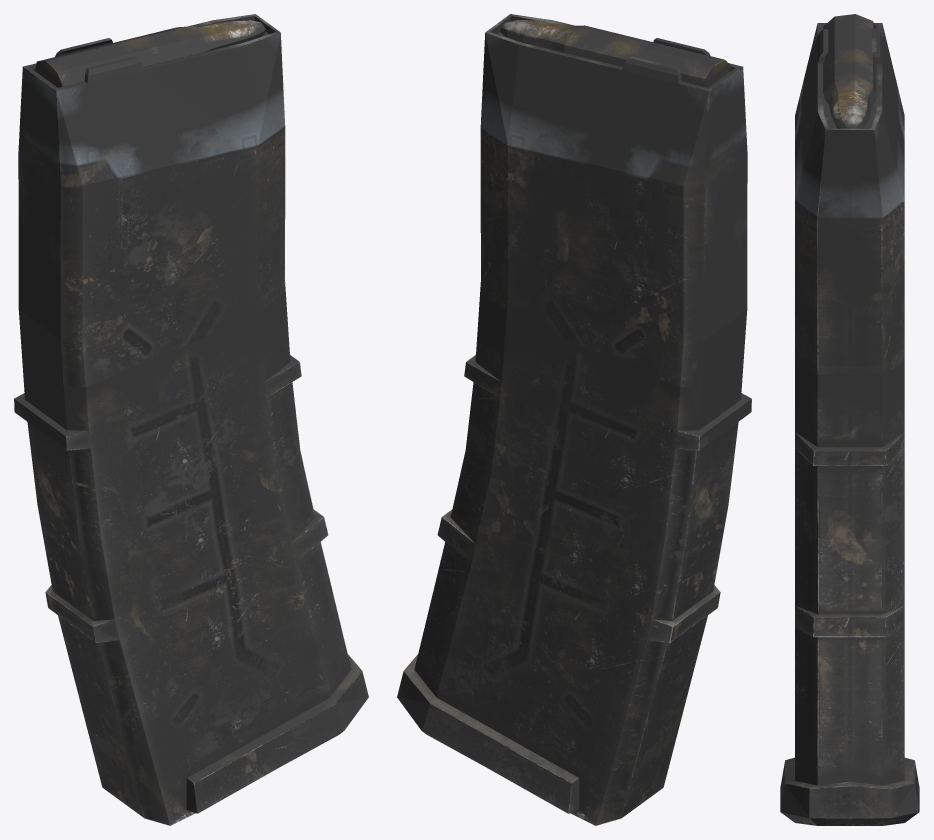
The model's file is Rifle_Magazine.fbx.
The picture shows the model from 3 angles, left to right: view 1: azimuth 30°, elevation 25°; view 2: azimuth 150°, elevation 25°; view 3: azimuth 270°, elevation 25°; orthographic projection. The views are drawn at different scales.
Parts seen in each view (by area): view 1: VEPR-Mag_Skin_00.mo; view 2: VEPR-Mag_Skin_00.mo; view 3: VEPR-Mag_Skin_00.mo.
Boxes of the visible parts, <box> form: VEPR-Mag_Skin_00.mo: <box>14,14,368,825</box>; VEPR-Mag_Skin_00.mo: <box>397,14,751,825</box>; VEPR-Mag_Skin_00.mo: <box>780,14,919,825</box>.
Bounding box in the file's own units: 9.31 × 21.84 × 3.76.
Materials: 1 (1 with a texture image).
